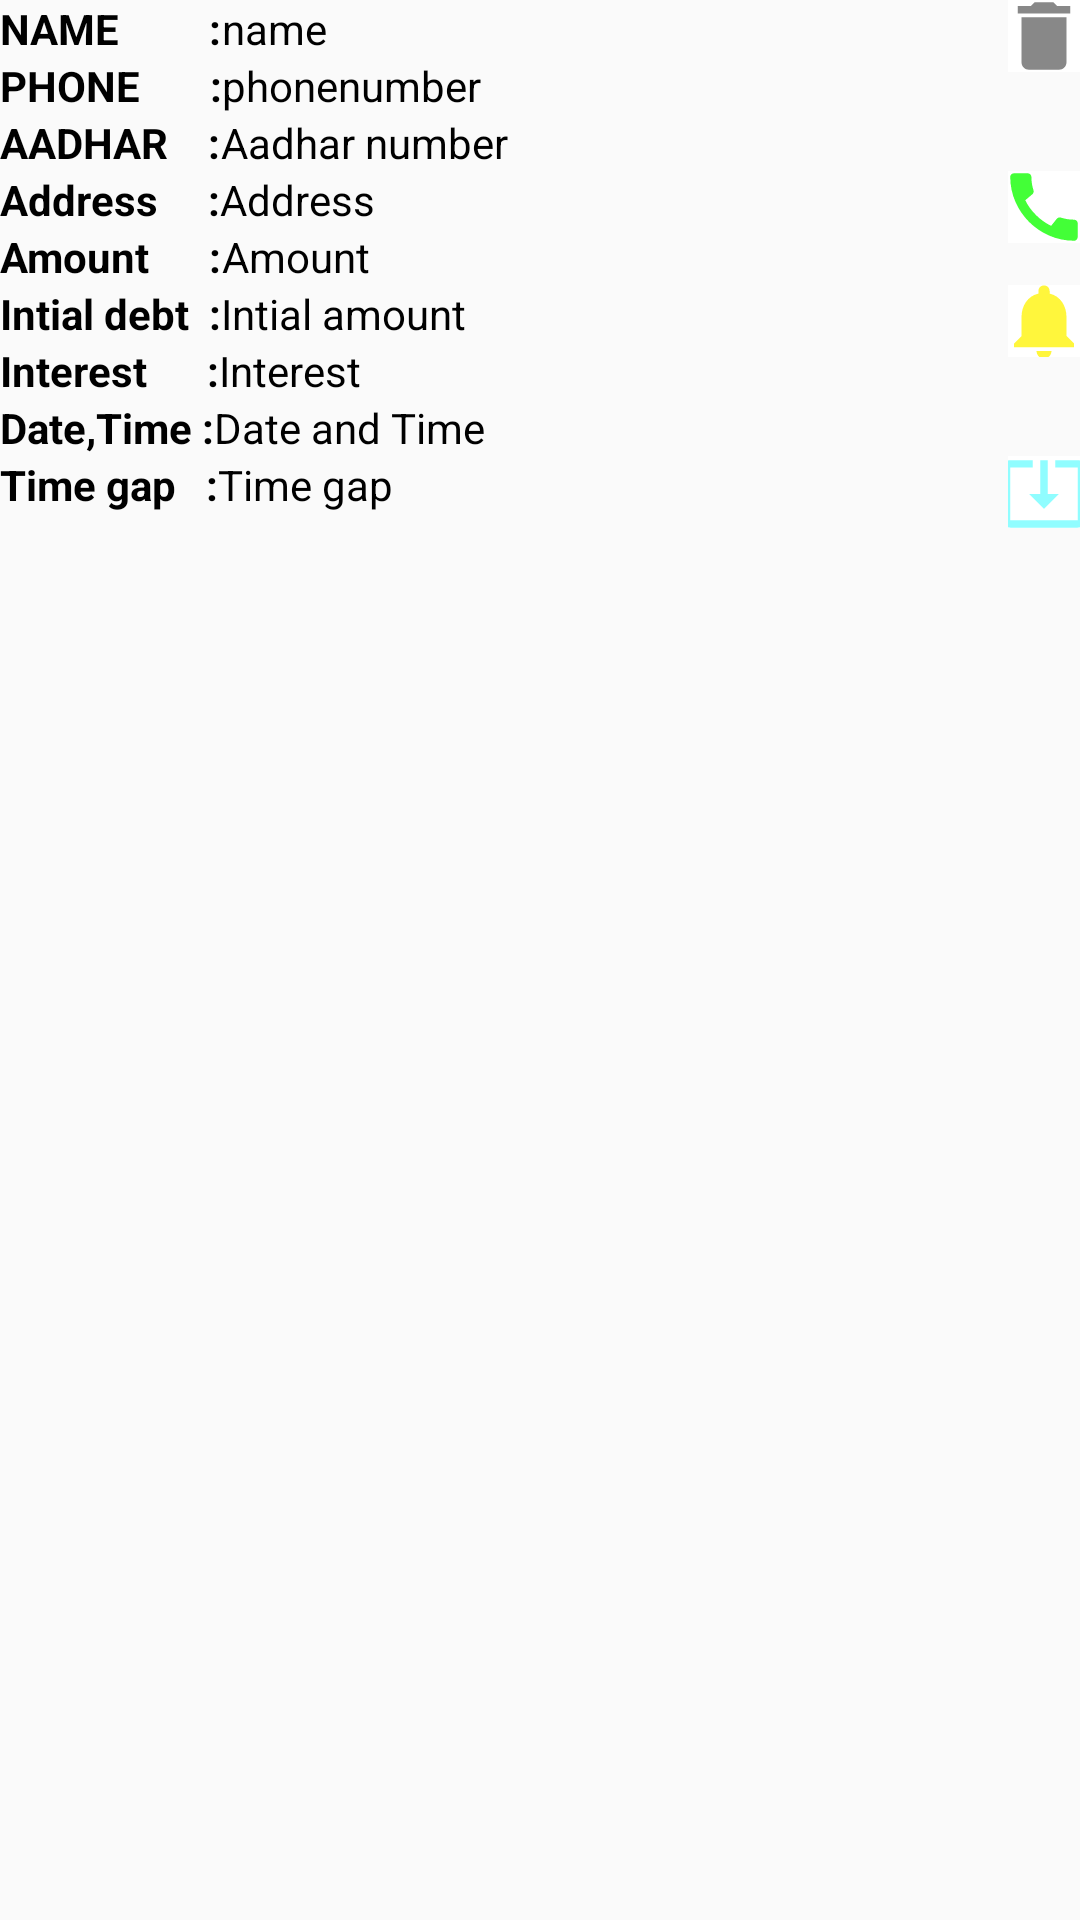

Icon bounding boxes for this 1080w x 1920h phone screenshot, format {"x1": x1, "y1": y1, "x2": x2, "y2": y2}:
call: {"x1": 1010, "y1": 173, "x2": 1078, "y2": 241}
delete: {"x1": 1017, "y1": 2, "x2": 1071, "y2": 70}
notification: {"x1": 1014, "y1": 285, "x2": 1074, "y2": 357}
update: {"x1": 1008, "y1": 460, "x2": 1080, "y2": 528}
